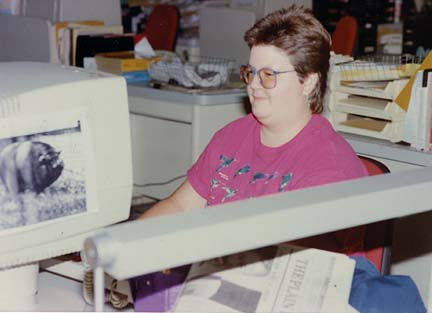person: (131, 8, 365, 220)
